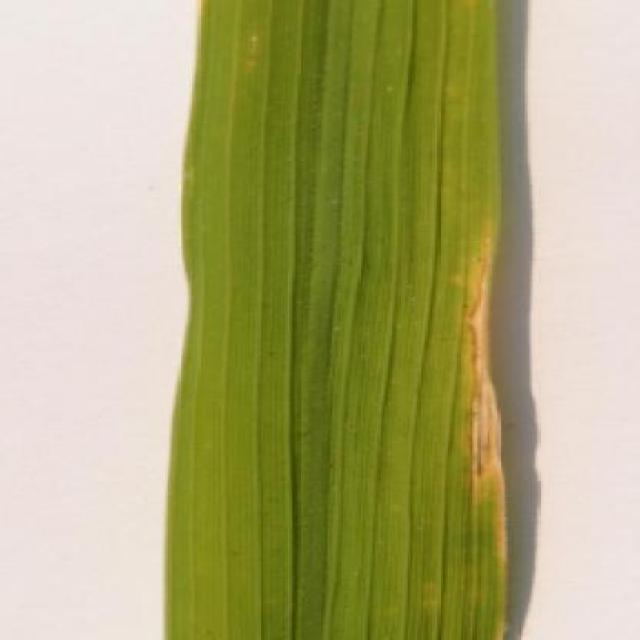Brown_Spot: (157, 0, 518, 640)
